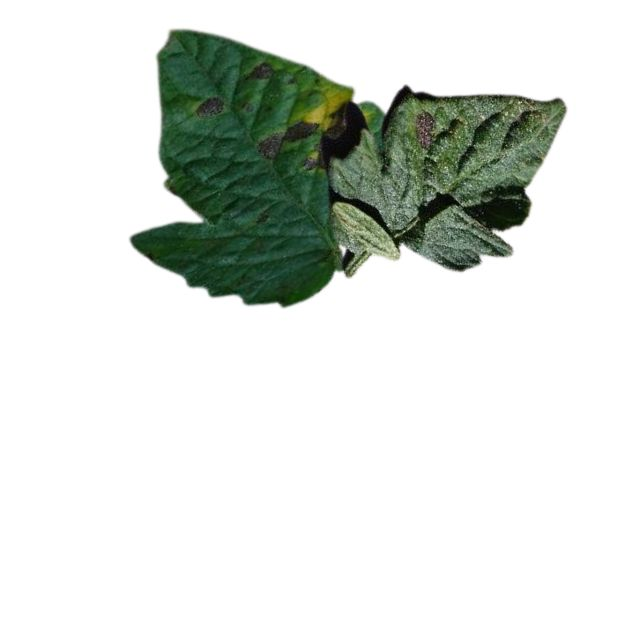Early_blight: (255, 118, 318, 157), (411, 108, 438, 153), (198, 92, 230, 120), (242, 60, 274, 81)
